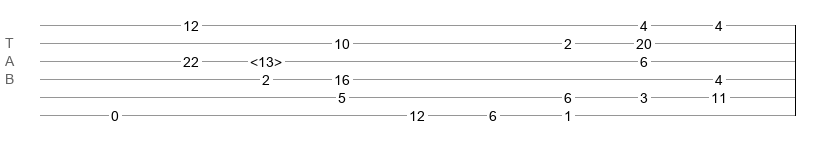0: (111, 108, 119, 118)
1: (564, 108, 572, 118)
10: (334, 36, 350, 46)
11: (711, 90, 727, 100)
12: (183, 18, 199, 28), (409, 108, 425, 118)
16: (334, 72, 350, 82)
2: (262, 72, 270, 82), (564, 36, 572, 46)
20: (636, 36, 652, 46)
22: (183, 54, 199, 64)
3: (640, 90, 648, 100)
4: (640, 18, 648, 28), (715, 72, 723, 82), (715, 18, 723, 28)
5: (338, 90, 346, 100)
6: (489, 108, 497, 118), (564, 90, 572, 100), (640, 54, 648, 64)
harmonic: (250, 54, 282, 64)
